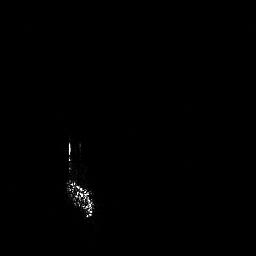ship: (66, 140, 96, 220)
